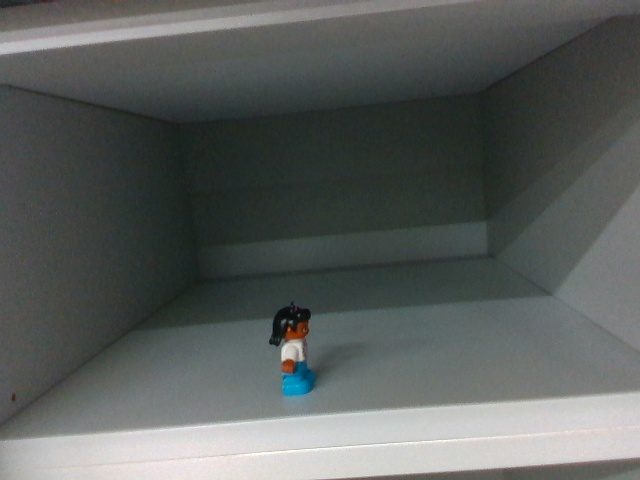people: (266, 303, 320, 399)
